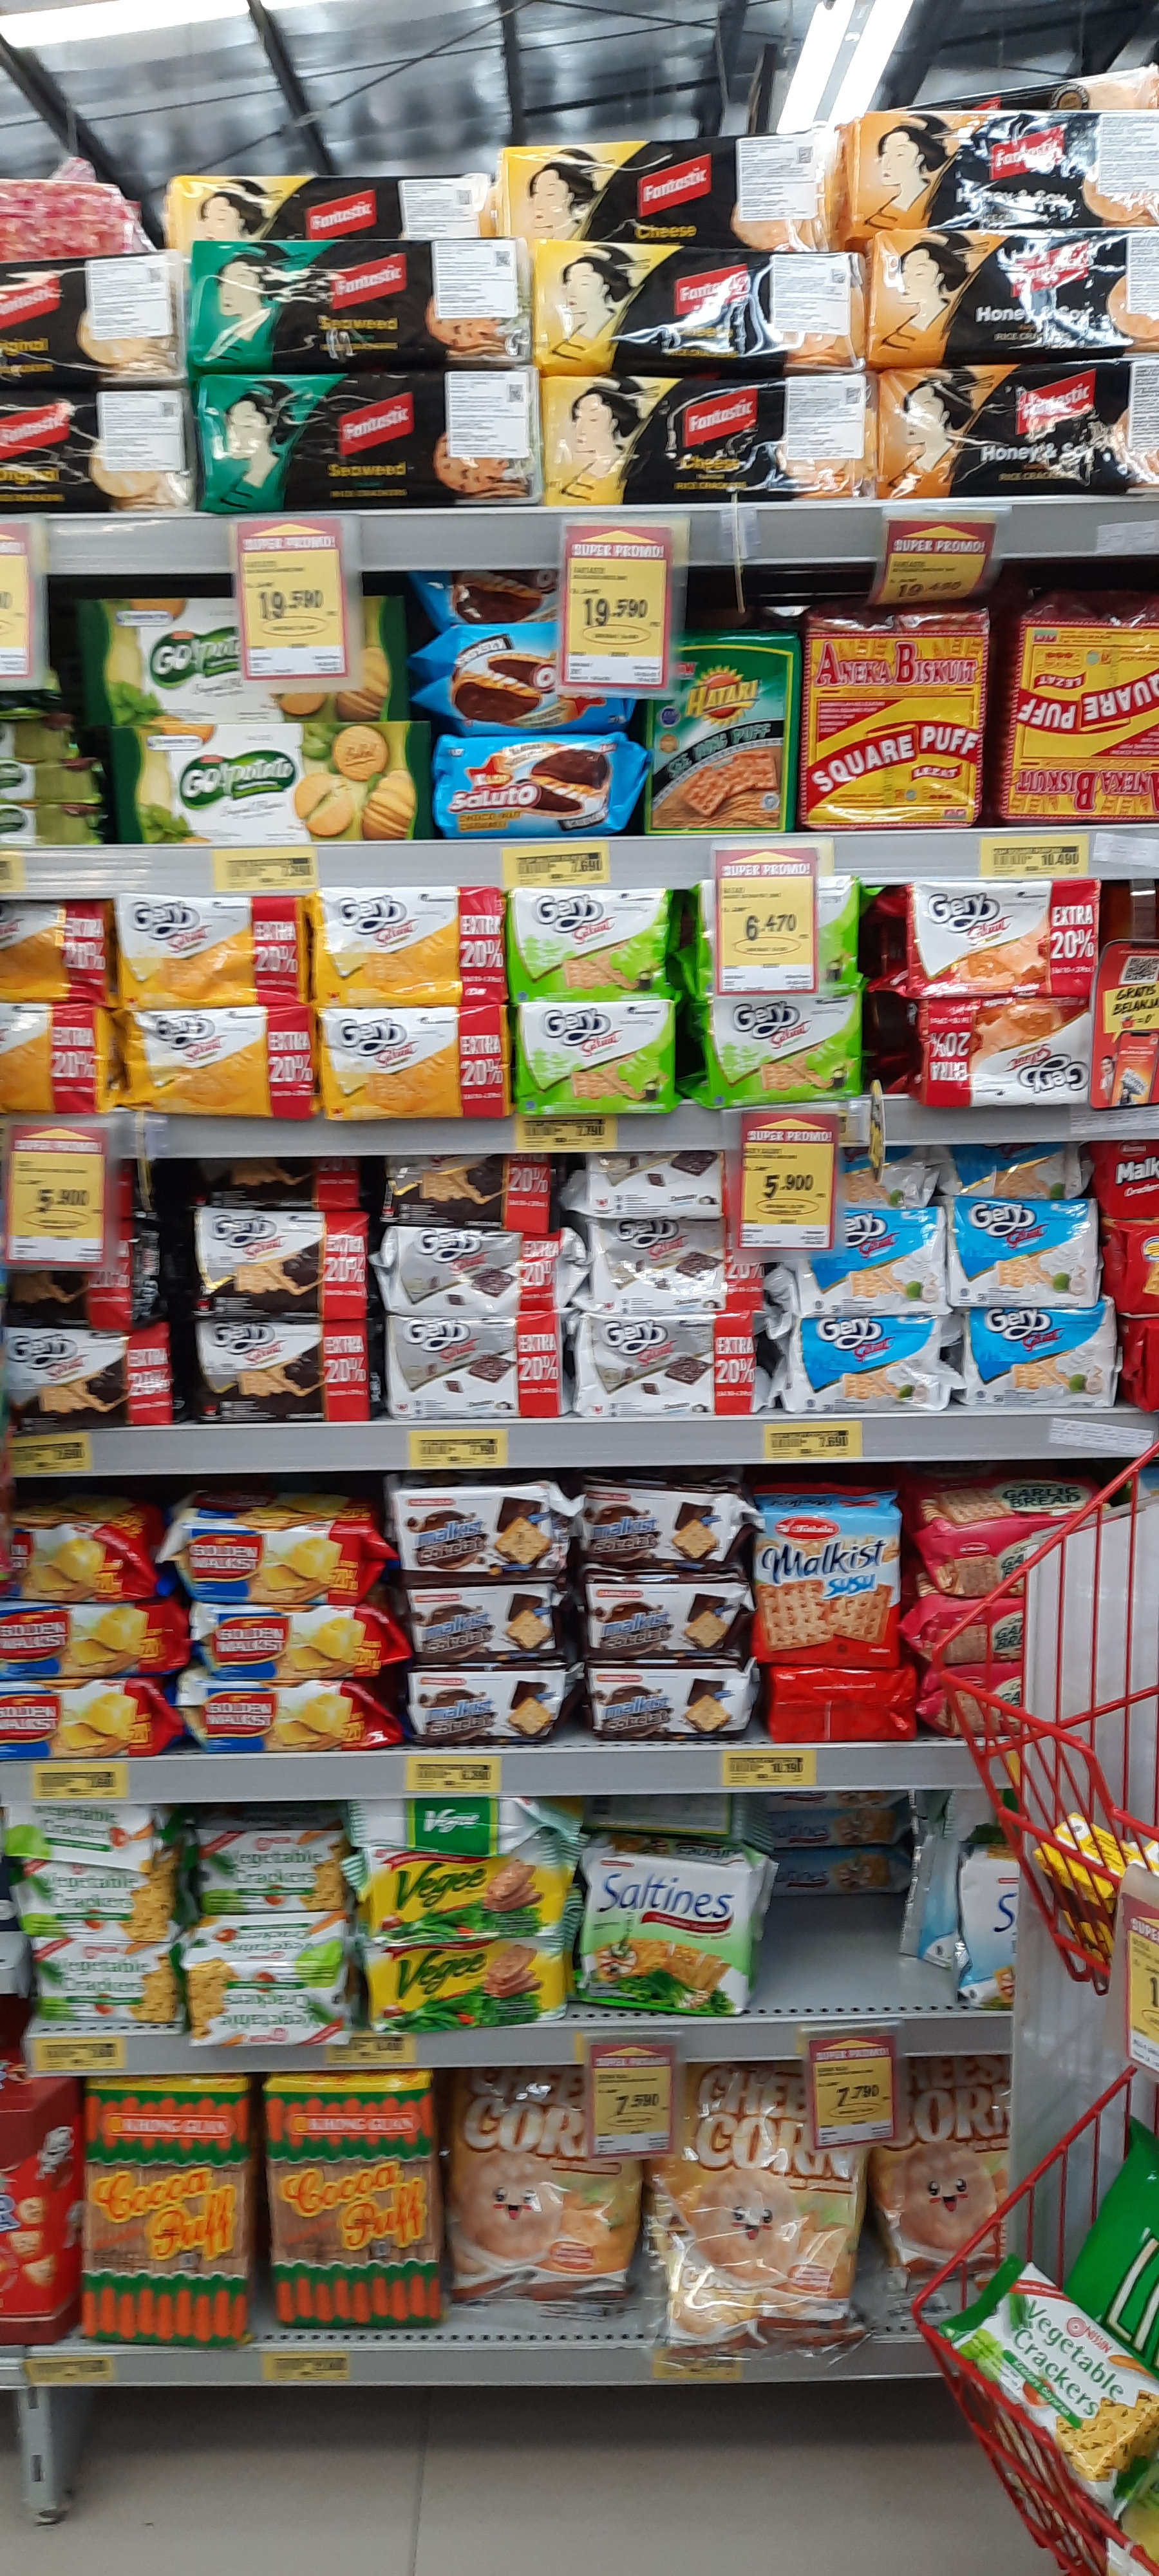90101225202100: (310, 885, 506, 1005), (115, 894, 307, 1007), (120, 1007, 315, 1115), (318, 1009, 509, 1119), (121, 1009, 317, 1115)
90101225202101: (192, 1207, 369, 1318), (190, 1207, 368, 1318), (194, 1318, 373, 1421), (2, 1327, 174, 1426)
90101225209100: (947, 1196, 1102, 1306), (778, 1314, 947, 1413), (959, 1306, 1115, 1408)
90101225212100: (509, 887, 671, 997), (694, 996, 862, 1102), (515, 1004, 675, 1111)
90101225218101: (578, 1313, 757, 1416), (386, 1316, 563, 1419), (387, 1229, 568, 1316)
90101225226101: (908, 877, 1098, 996), (921, 997, 1090, 1109)
FantasticRiceCrackersCheese: (530, 243, 860, 371), (542, 375, 873, 499)
FantasticRiceCrackersHoney&Soy: (878, 361, 1159, 498), (872, 230, 1159, 360), (855, 112, 1159, 228)
FantasticRiceCrackersSeaweed: (200, 373, 538, 506), (192, 240, 530, 366)
HatariMalkist: (648, 636, 799, 835)
KhongGuanCocoaPuffBiskuitWafer: (84, 2075, 253, 2346), (266, 2072, 442, 2326)
KhongGuanMalkistCokelat: (588, 1574, 750, 1658), (392, 1493, 557, 1576), (581, 1490, 747, 1569), (405, 1585, 560, 1664), (588, 1666, 755, 1738), (409, 1672, 560, 1743)
KhongGuanSaltinesVegetablesCrackers: (583, 1848, 750, 2012)
KlopSalutoChocoNutCaramel: (440, 734, 621, 835)
KokolaMalkistSusu: (749, 1488, 900, 1669)
NarayaCheeseCorn: (653, 2068, 865, 2351), (448, 2073, 627, 2310)
NissinGoldenMalkist: (174, 1510, 376, 1605), (194, 1602, 383, 1679), (2, 1602, 169, 1677), (0, 1681, 164, 1756), (194, 1681, 366, 1751), (0, 1603, 167, 1676)
NissinVegeeBiscuits: (364, 1847, 565, 1934), (366, 1939, 566, 2024)
NissinVegetableCrackers: (190, 1958, 346, 2045), (30, 1939, 182, 2022), (197, 1827, 346, 1911), (18, 1860, 171, 1940)
SiantarTopDeoGoPotato: (120, 721, 428, 844)
SquarePuffBiskuit: (806, 619, 982, 825), (1000, 616, 1159, 820)
